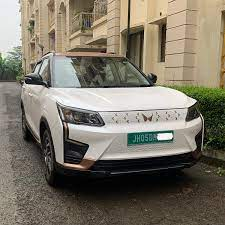XUV 400: (18, 50, 205, 191)
